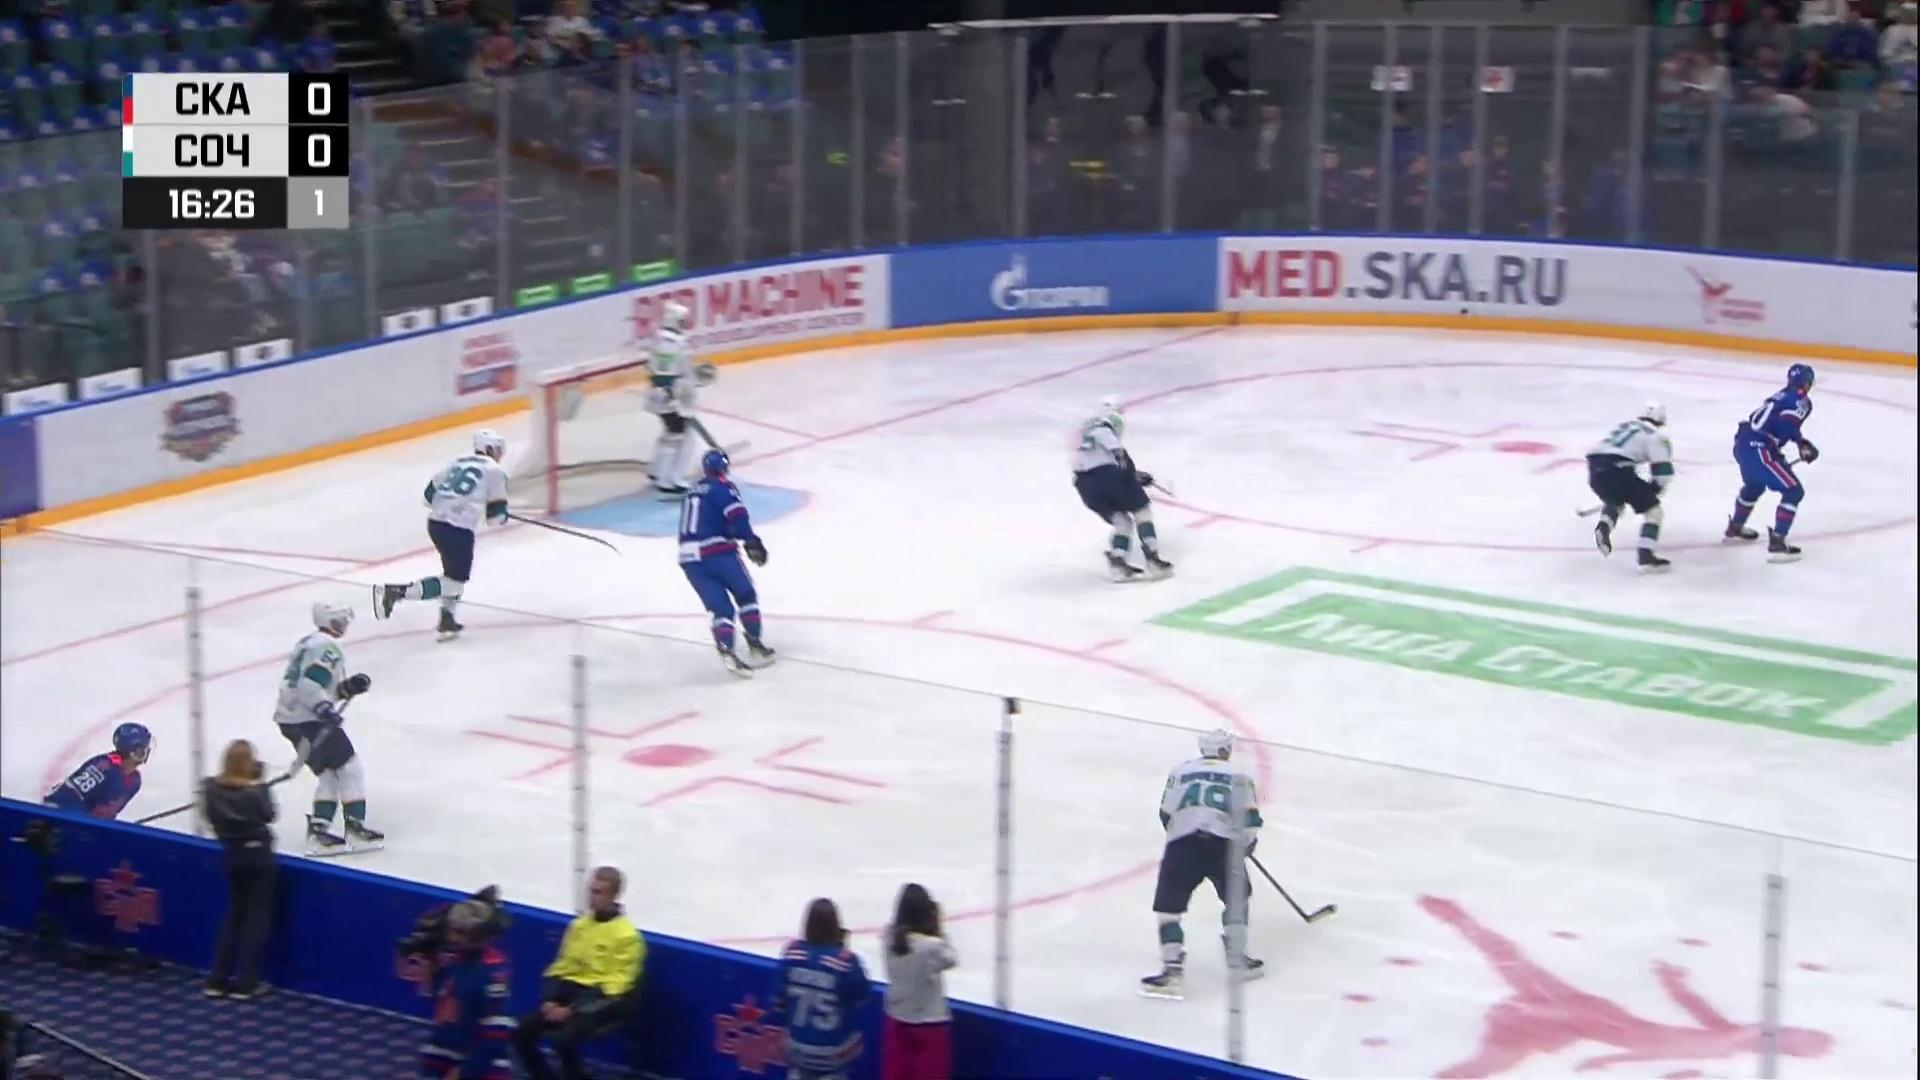ball: (1460, 309, 1469, 314)
